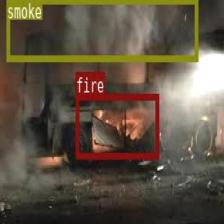fire: (75, 93, 158, 157)
smoke: (6, 0, 197, 60)
